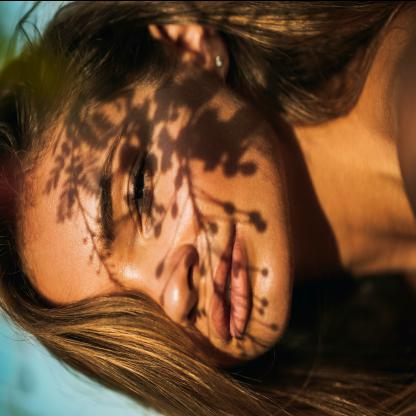Eye: (124, 143, 156, 240)
Mouth: (210, 223, 253, 347)
Nose: (126, 242, 198, 327)
